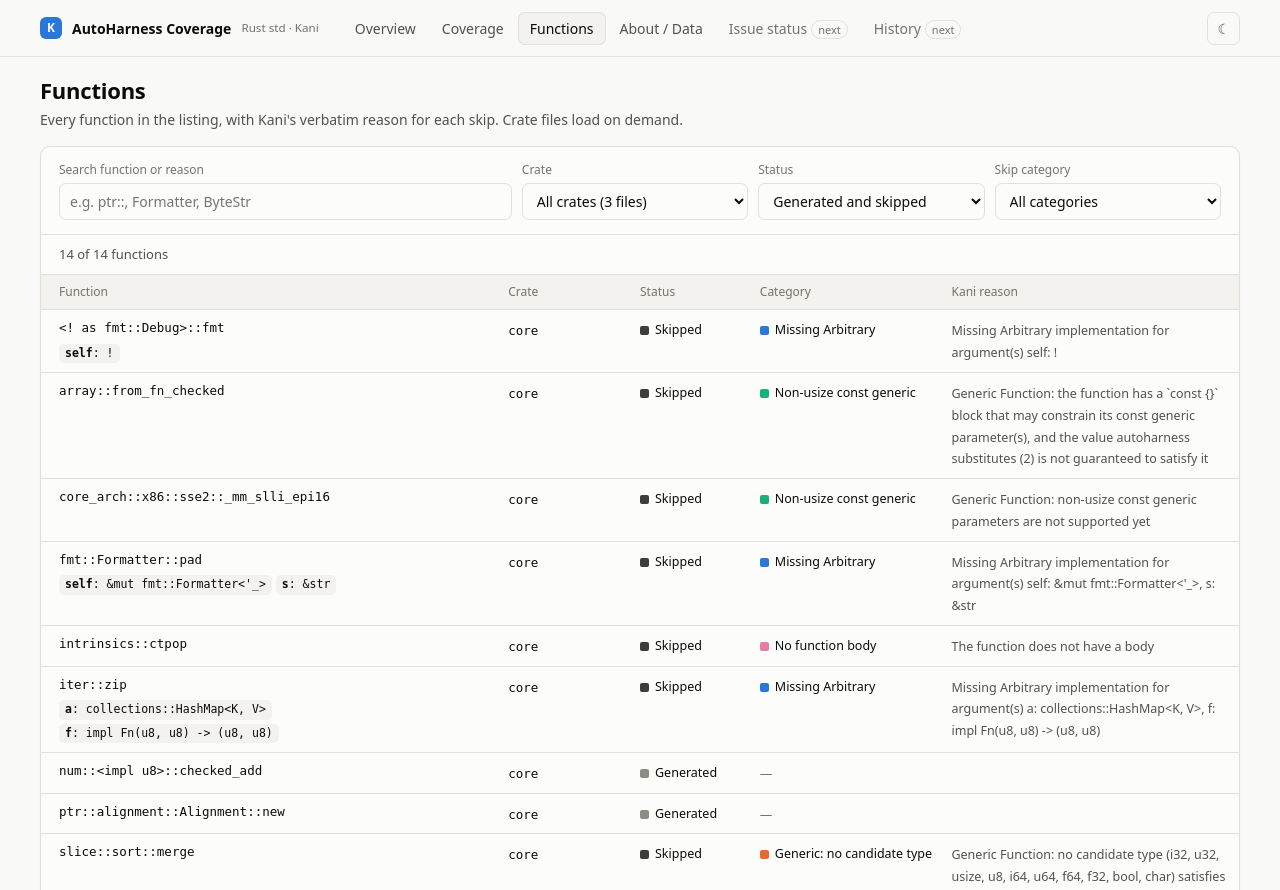
Functions › filters by status, category and text across all crates
Expected: the text with test id "result-count" reads "14 of 14 functions", [59,244,168,262]
Select "Generated" in the dropdown labelled "Status" at (871,201), box [758,182,985,220]
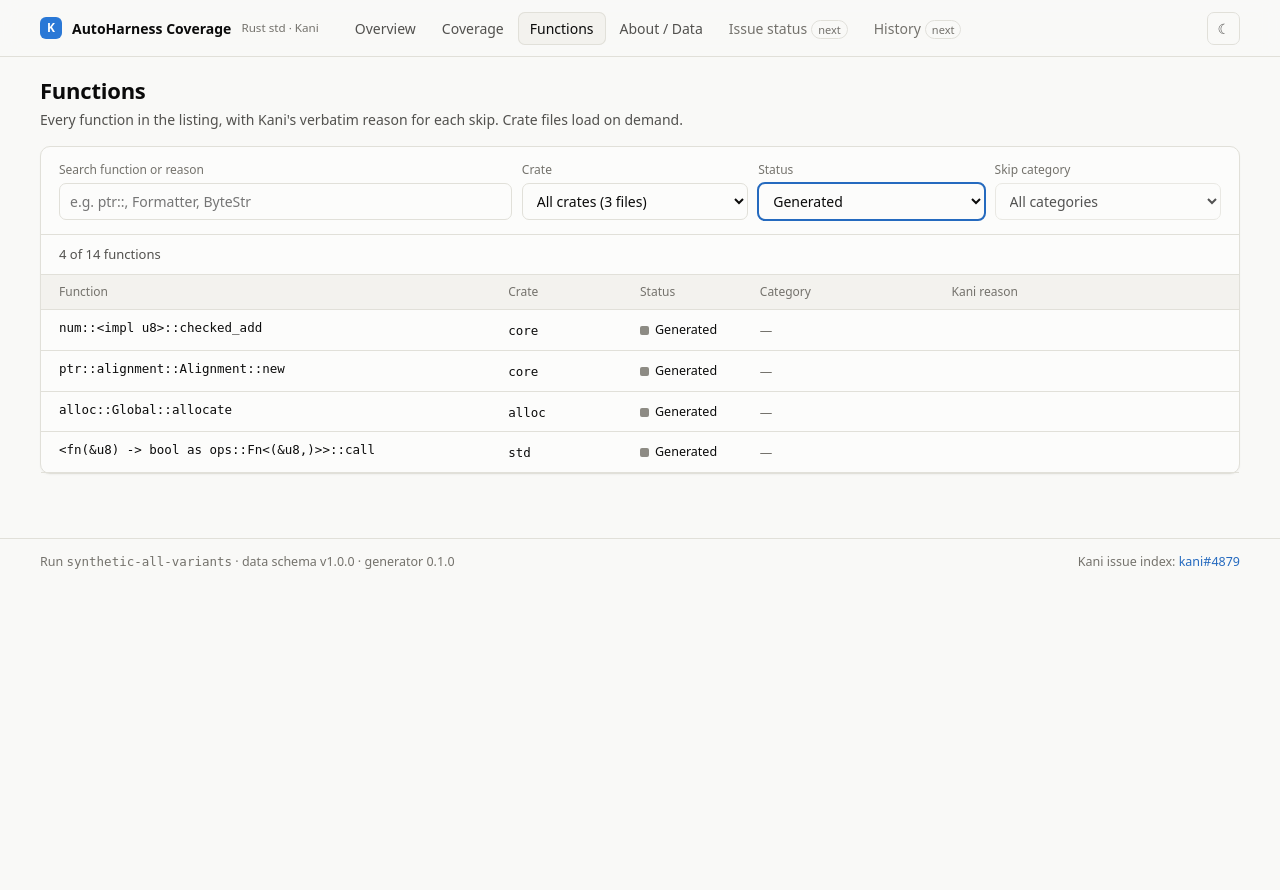
Expected: the text with test id "result-count" shows "4 of 14", [59,244,161,262]
Select "Generated and skipped" in the dropdown labelled "Status" at (871,201), box [758,182,985,220]
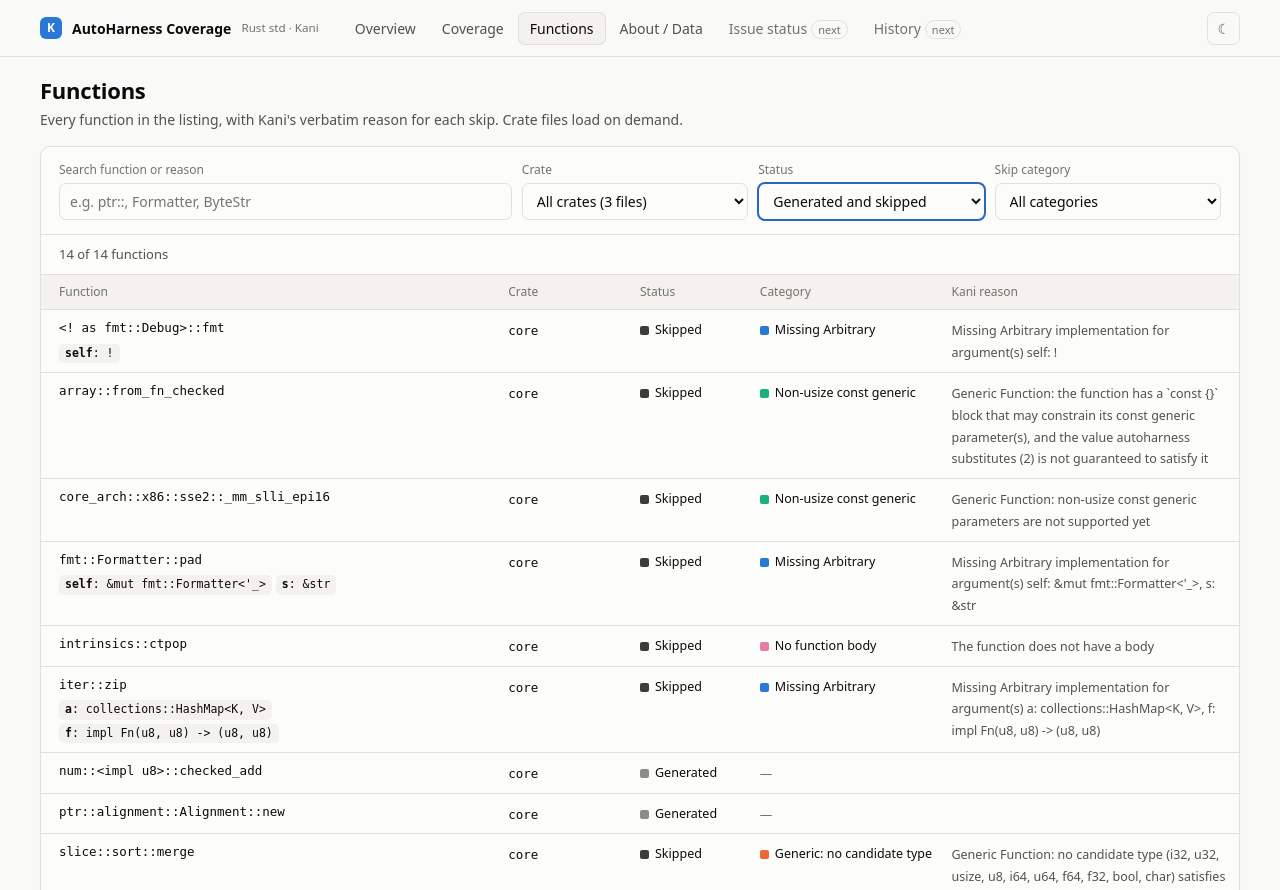
Select "Requires bounded arguments" in the dropdown labelled "Skip category" at (1108,201), box [995,182,1221,220]
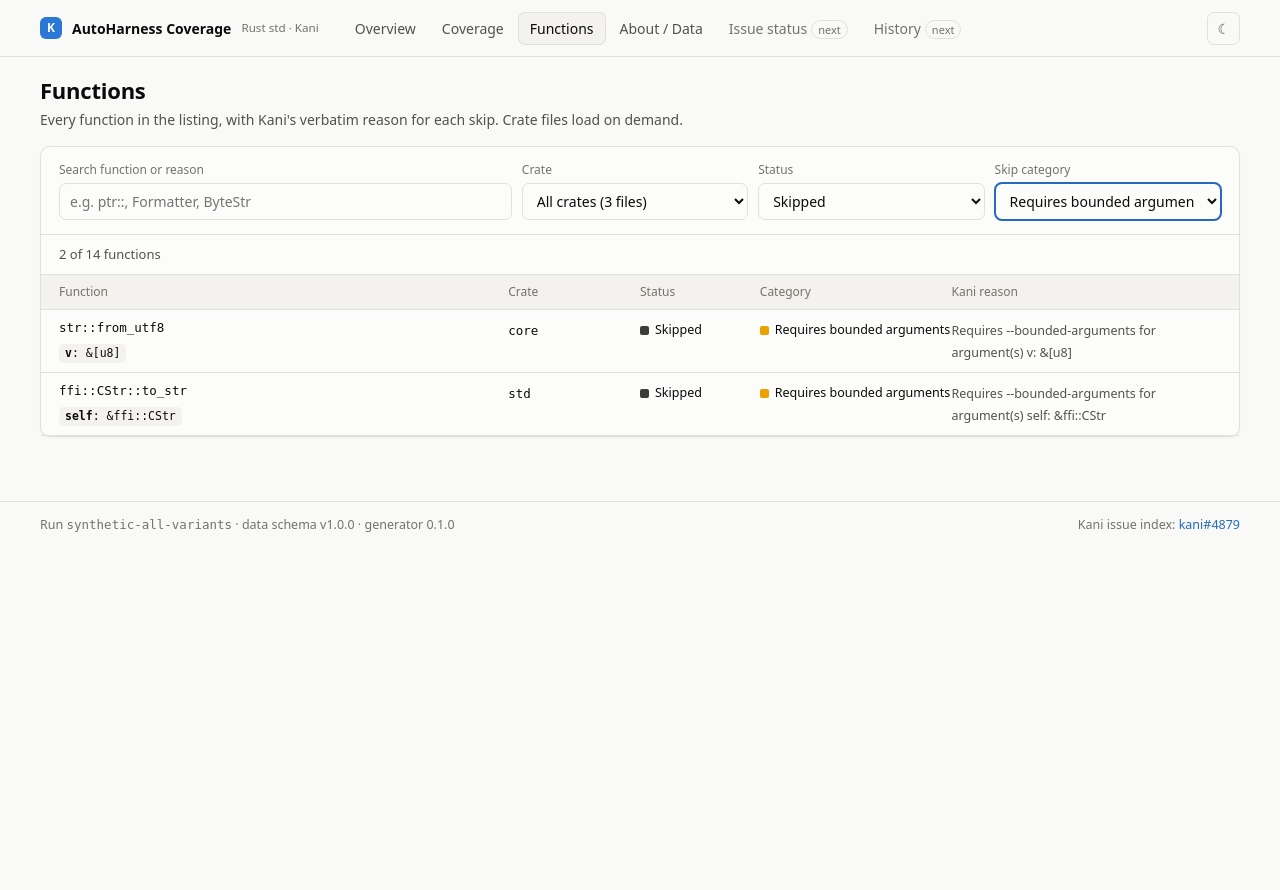
Result: the text "str::from_utf8" is shown at [59,320,164,335]
Result: the element named "Parsed arguments" reads "v: &[u8]" at [59,344,126,363]
Result: the text with test id "result-count" shows "2 of 14" at [59,244,161,262]
Type "CStr" into the search field labelled "Search function or reason" at (285,201), box [59,182,512,220]
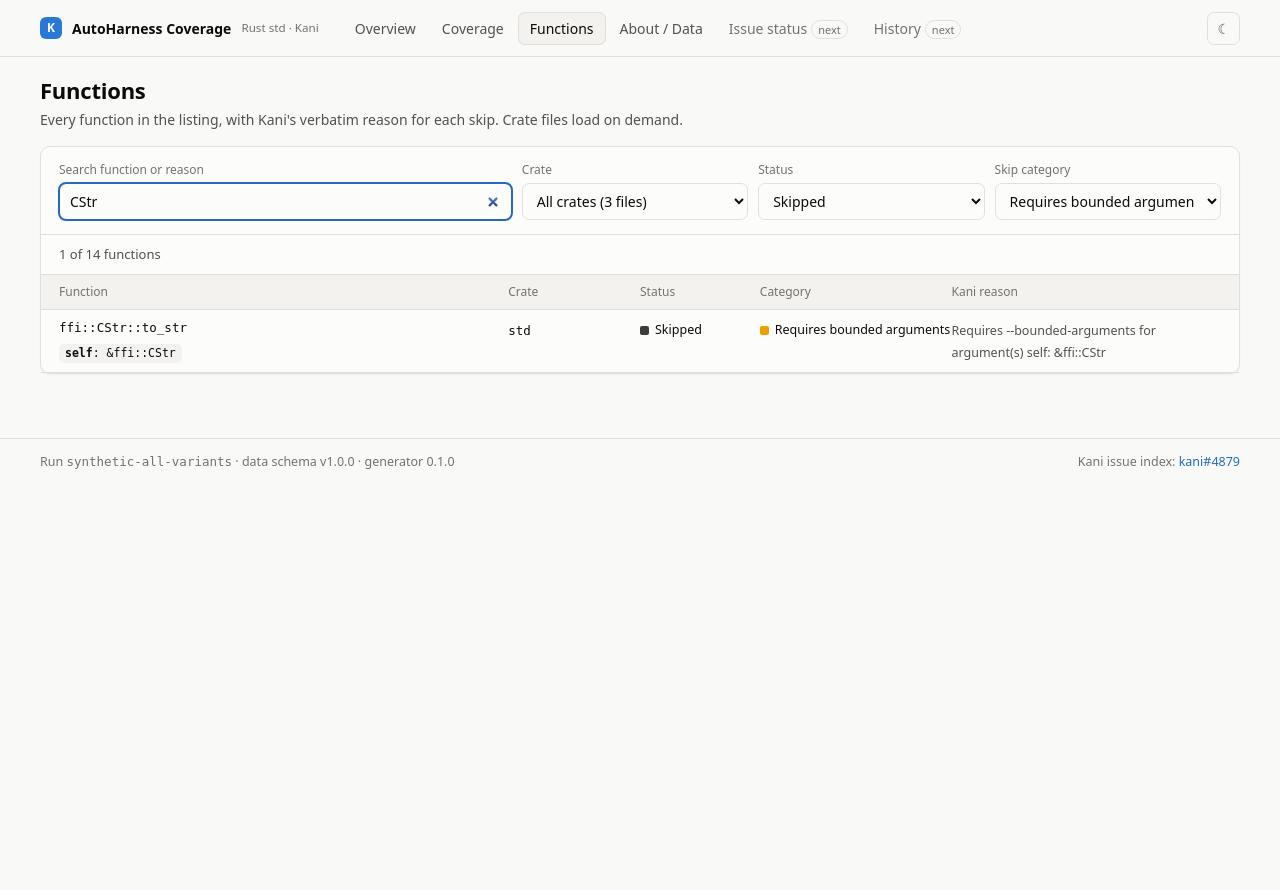
Result: the text "ffi::CStr::to_str" is shown at [59,320,187,335]
Result: the text with test id "result-count" shows "1 of 14" at [59,244,161,262]
